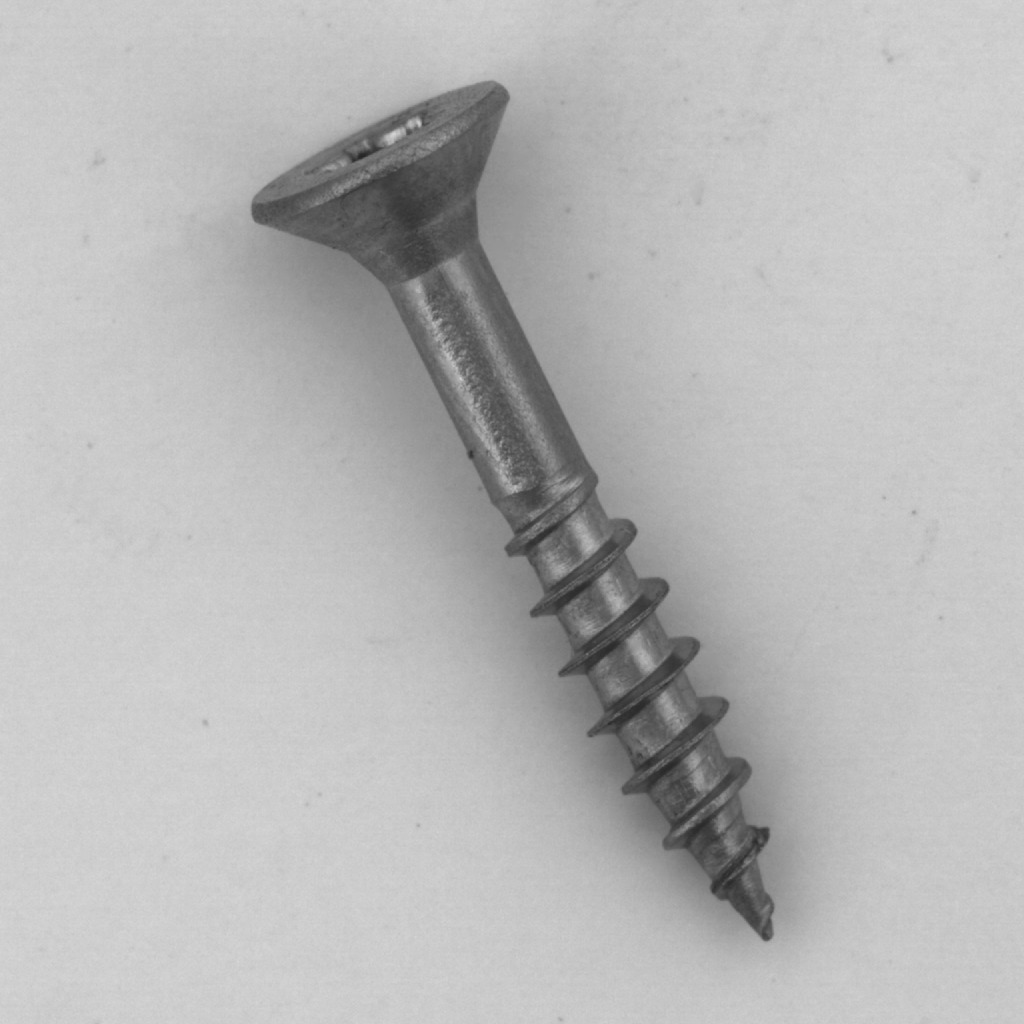good: (222, 58, 817, 956)
